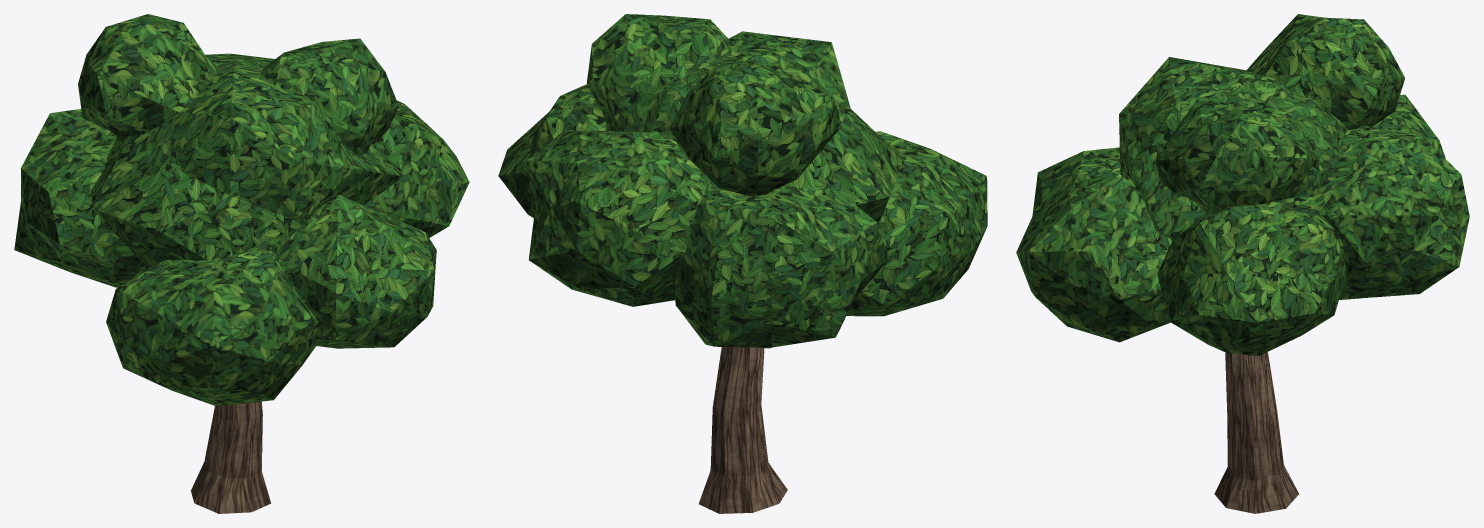
File: oak.glb
3 views of the same model, side by side, from view 1: azimuth 30°, elevation 25°; view 2: azimuth 150°, elevation 25°; view 3: azimuth 270°, elevation 25° (orthographic). The views are drawn at different scales.
Parts seen in each view (by area): view 1: Oak; view 2: Oak; view 3: Oak.
Part boxes in pixels (x1=…): Oak: x1=14, y1=14, x2=469, y2=513; Oak: x1=498, y1=14, x2=987, y2=513; Oak: x1=1016, y1=14, x2=1469, y2=513.
Size of the model in its own units: 6.18 by 6.94 by 6.28.
Materials: 2 (2 with a texture image).
